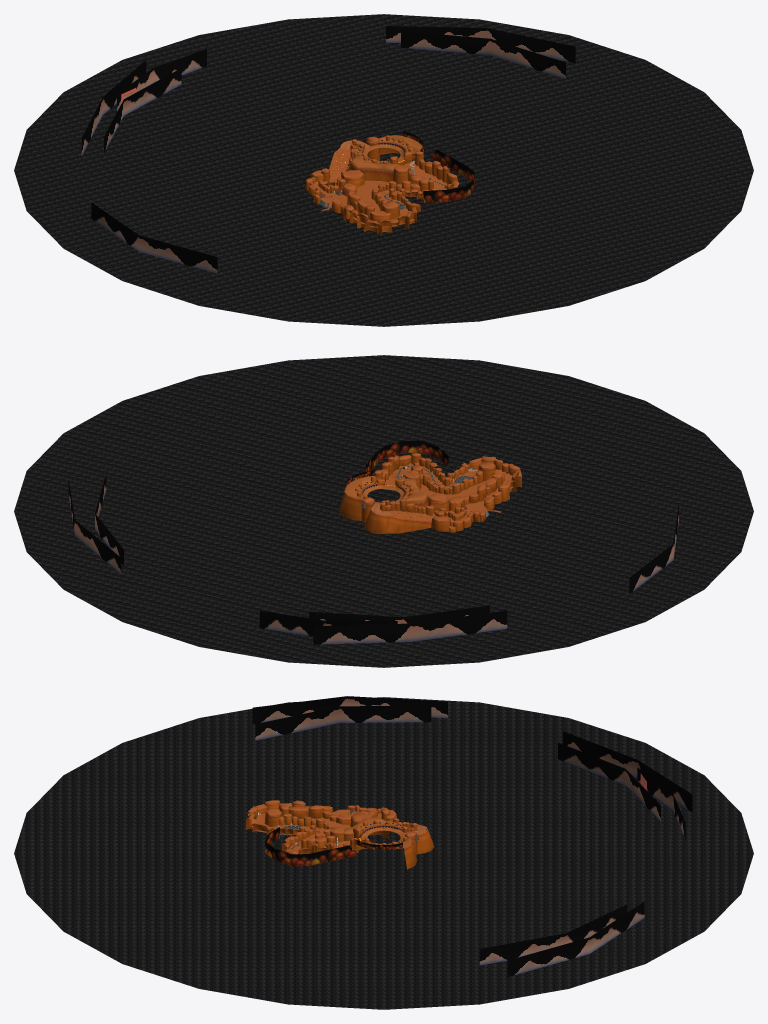
The picture shows the model from 3 angles, top to bottom: view 1: azimuth 30°, elevation 25°; view 2: azimuth 150°, elevation 25°; view 3: azimuth 270°, elevation 25°; orthographic projection.
Parts seen in each view (by area): view 1: QT-SKP--sea, QT-SKP--farfar, QT-SKP--mountain, QT-SKP--sandroad, QT-SKP--mount_bg, QT-SKP--sand_thwomp, QT-SKP--sandroad.002; view 2: QT-SKP--sea, QT-SKP--farfar, QT-SKP--mountain, QT-SKP--sandroad, QT-SKP--mount_bg, QT-SKP--sand_thwomp, QT-SKP--sandroad.002; view 3: QT-SKP--sea, QT-SKP--farfar, QT-SKP--mountain, QT-SKP--sandroad, QT-SKP--mount_bg, QT-SKP--sand_thwomp, QT-SKP--sandroad.002.
Part boxes in pixels (x1,y1,x2,y2): QT-SKP--sea: (14, 14, 753, 326); QT-SKP--farfar: (81, 26, 575, 273); QT-SKP--mountain: (305, 137, 457, 235); QT-SKP--sandroad: (306, 135, 459, 225); QT-SKP--mount_bg: (403, 131, 474, 202); QT-SKP--sand_thwomp: (349, 135, 423, 171); QT-SKP--sandroad.002: (313, 161, 454, 227); QT-SKP--sea: (14, 355, 753, 667); QT-SKP--farfar: (68, 474, 678, 644); QT-SKP--mountain: (339, 455, 521, 534); QT-SKP--sandroad: (355, 453, 521, 528); QT-SKP--mount_bg: (345, 440, 448, 490); QT-SKP--sand_thwomp: (344, 476, 427, 504); QT-SKP--sandroad.002: (383, 463, 516, 520); QT-SKP--sea: (14, 697, 753, 1009); QT-SKP--farfar: (252, 696, 692, 976); QT-SKP--mountain: (245, 802, 433, 869); QT-SKP--sandroad: (246, 800, 417, 854); QT-SKP--mount_bg: (265, 827, 402, 866); QT-SKP--sand_thwomp: (344, 817, 411, 850); QT-SKP--sandroad.002: (252, 809, 381, 852).
Bounding box in the file's own units: 399990 × 17346 × 399990.
33 materials, 33 textured.
